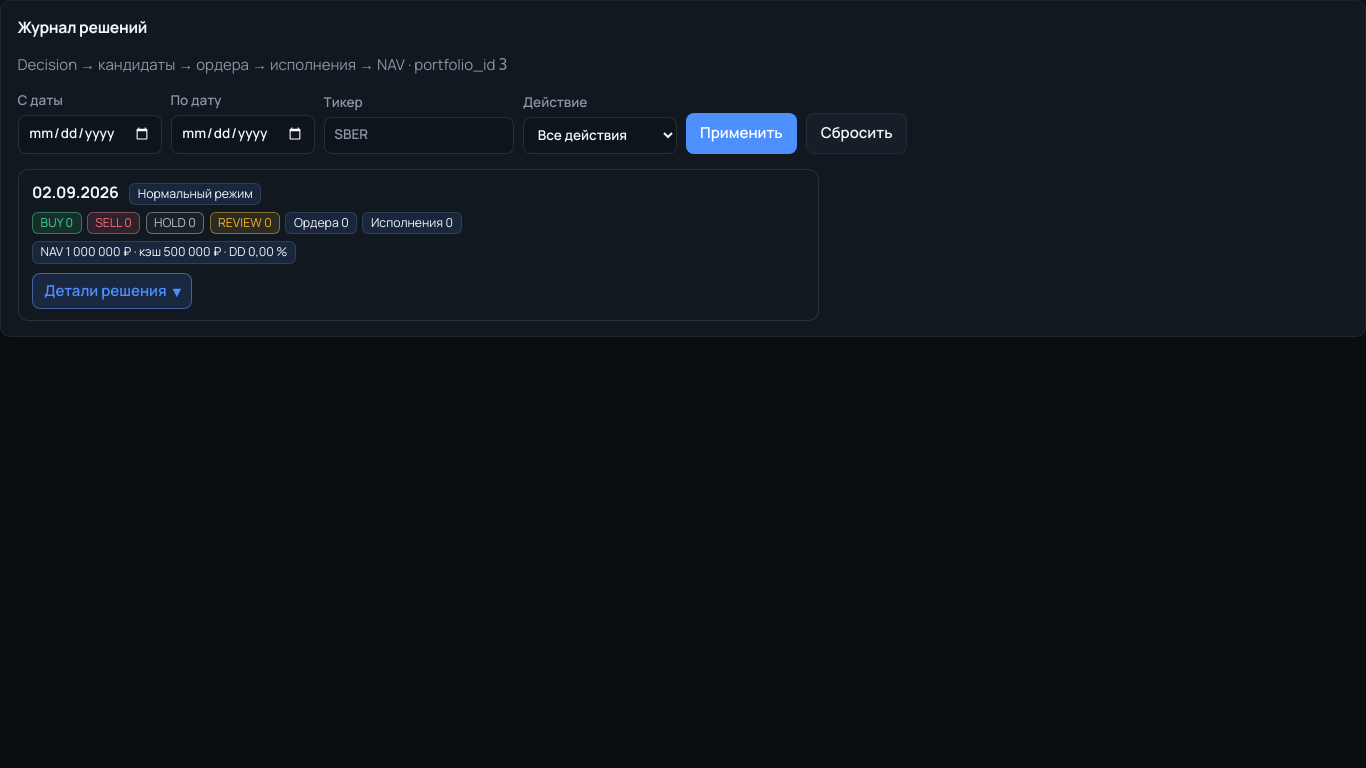
Test: DecisionJournalPanel V4 › shows missing-reason copy for empty traces
This screenshot has width=1366, height=768.
Step 1. Click the button with test id "shadow-journal-day-toggle" → (112, 291), box [32,273,192,309]
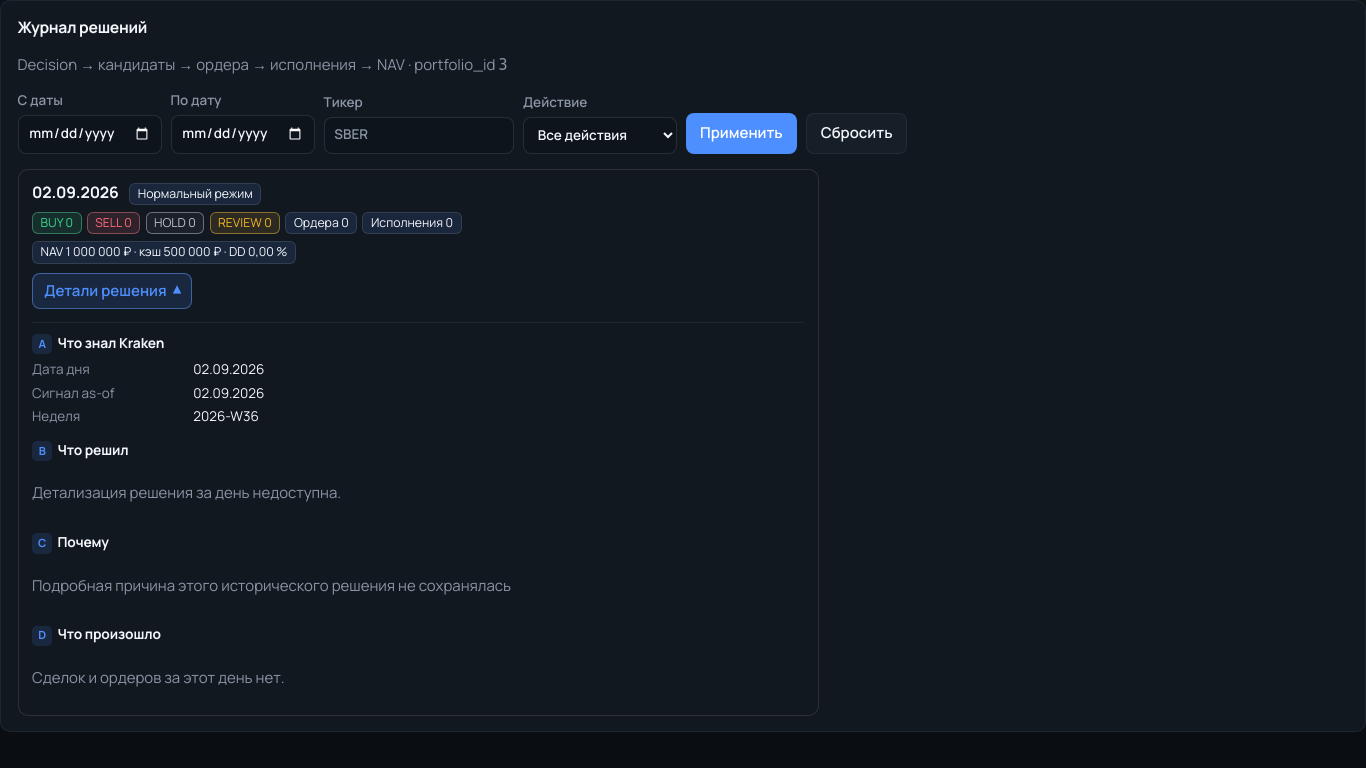
Expected: the element with test id "shadow-journal-day-expanded" is shown, [32,322,804,704]
Expected: the text with test id "shadow-journal-missing-reason" reads "Подробная причина этого исторического решения не сохранялась", [32,575,511,596]
